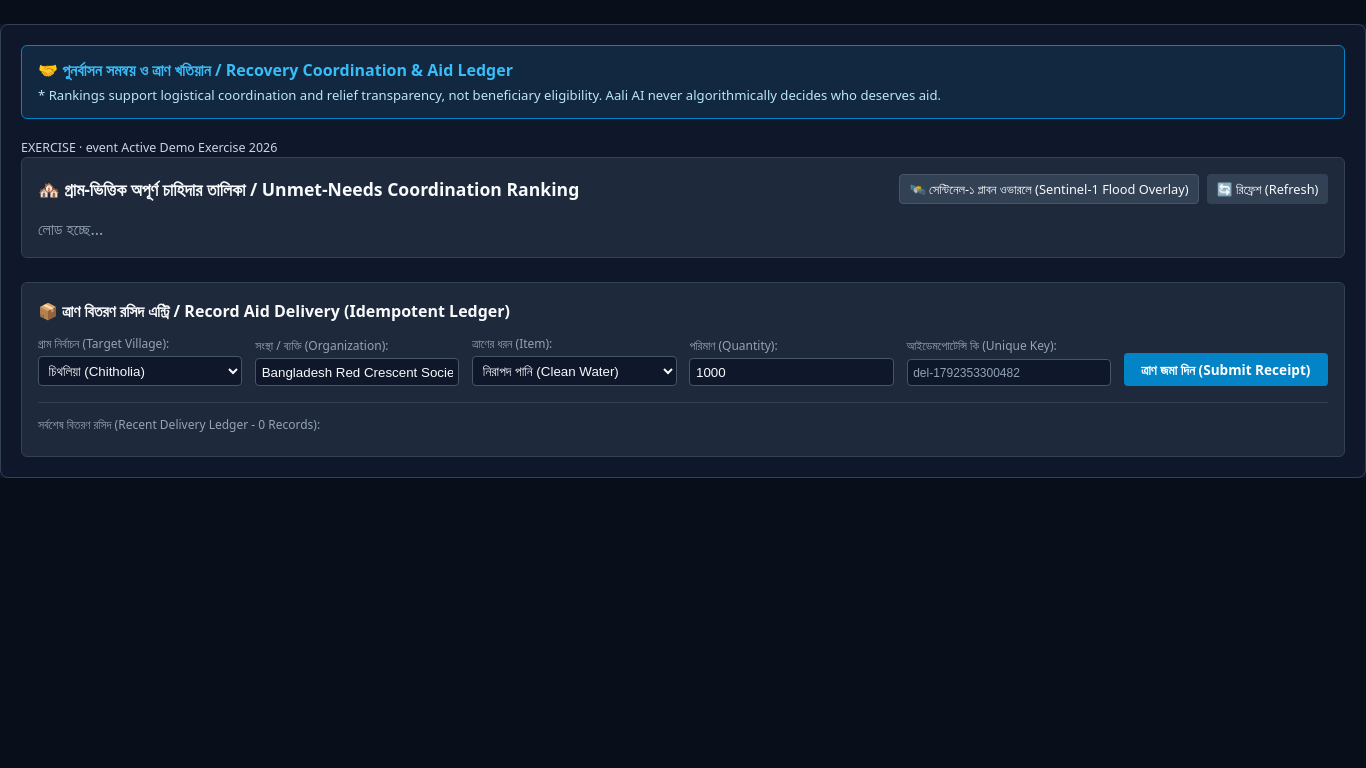
Test: RecoveryLedger Component › submits a new aid delivery receipt and records ledger entry
Click the button "ত্রাণ জমা দিন (Submit Receipt)".
click(1226, 370)  # box [1124,353,1328,386]
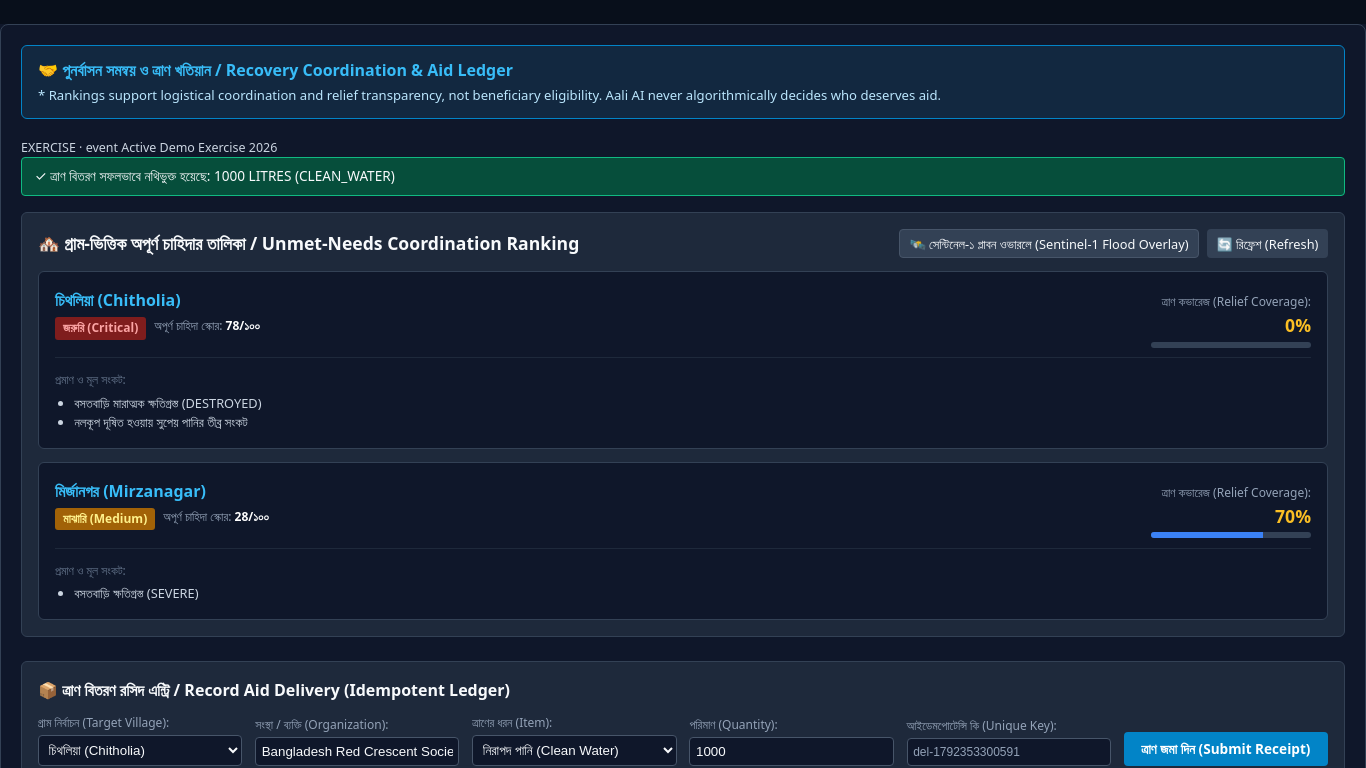
Result: the text "ত্রাণ বিতরণ সফলভাবে নথিভুক্ত হয়েছে" is shown at [35,166,395,185]
